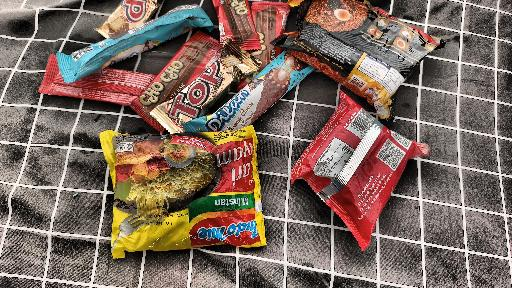indomie: (81, 130, 279, 257)
mie sedap: (279, 0, 438, 117)
momotaro: (302, 90, 416, 255)
top: (151, 38, 263, 128)
